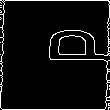P_W: (5, 36, 105, 74)
